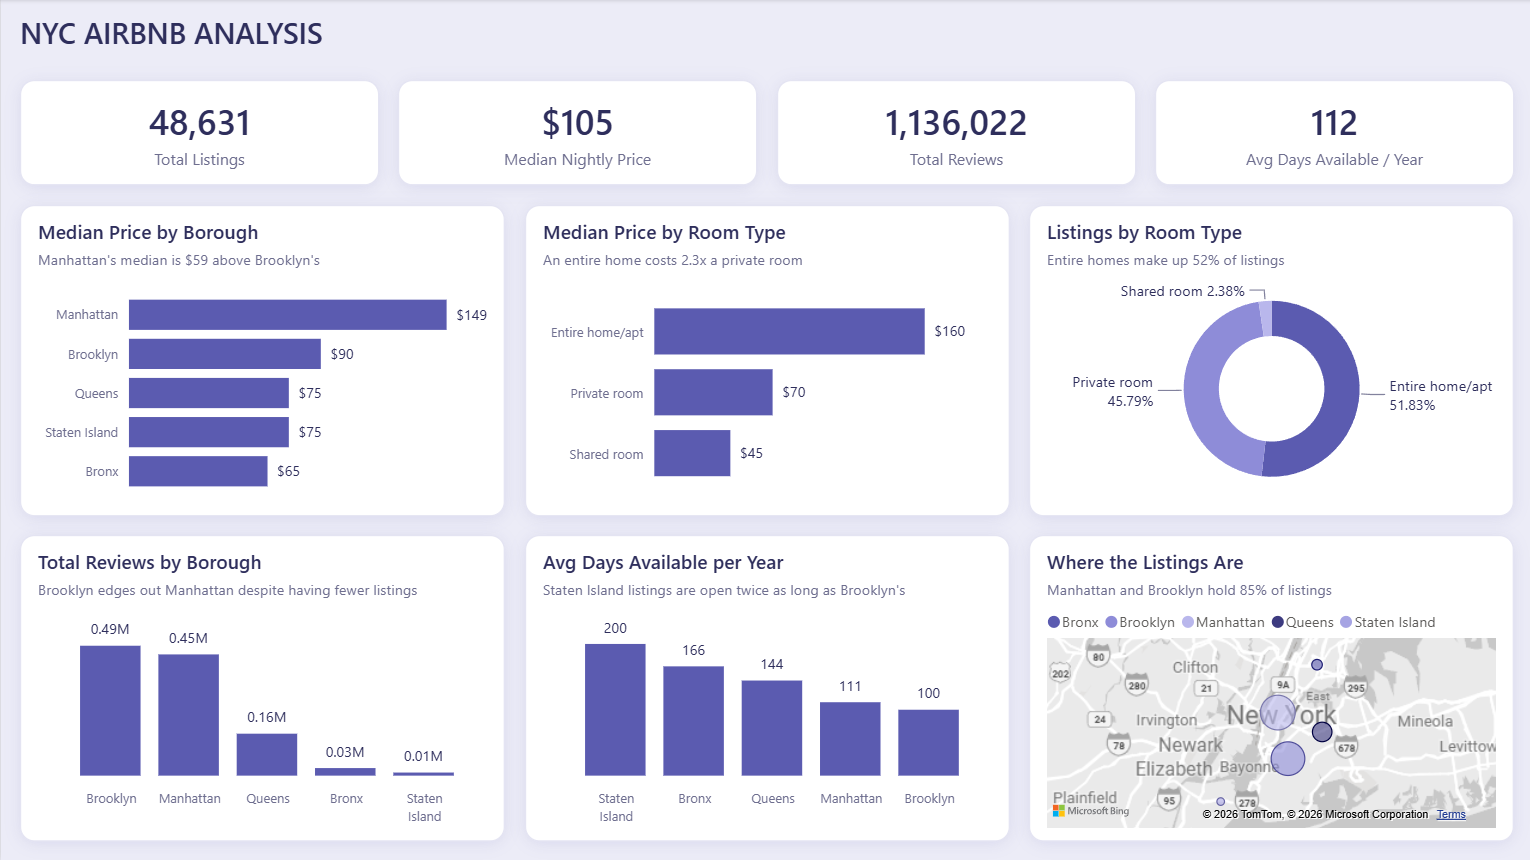

Layout of this report page (visuals, bound fields, positions):
{"tool":"powerbi","page":{"name":"Page 1","canvas":[1280,720],"ordinal":0},"visuals":[{"type":"textbox","box":[463.4,0,334.6,46.2],"z":0},{"type":"donutChart","fields":{"Category":["listings.room_type"],"Y":["CountNonNull(listings.id)"]},"box":[0,253,425.3,401.7],"z":1000},{"type":"textbox","box":[238.5,279.3,186.8,80.7],"z":2000},{"type":"clusteredBarChart","fields":{"Y":["Count(listings.price)"],"Category":["listings.neighbourhood_group"]},"box":[425.3,46.2,567.7,319.2],"z":3000},{"type":"card","fields":{"Values":["CountNonNull(listings.id)"]},"box":[0,46.2,425.3,206.8],"z":4000},{"type":"columnChart","fields":{"Category":["listings.neighbourhood_group"],"Y":["CountNonNull(listings.number_of_reviews)"]},"box":[425.3,365.4,498.7,354.6],"z":5000},{"type":"keyDriversVisual","fields":{"Target":["listings.price"],"ExplainBy":["listings.number_of_reviews","listings.neighbourhood_group"]},"box":[924,46.2,346.4,383.6],"z":5001},{"type":"lineChart","fields":{"Category":["listings.neighbourhood_group"],"Y":["Count(listings.availability_365)"]},"box":[924,429.8,346.4,290.2],"z":5002}]}

Visuals, with their boxes in screenshot pixels (x1, y1, x2, y2), scaled from the page's 1280x720 canvas onto the 1530x860 screenshot:
textbox: 554 0 954 55
donutChart - listings.room_type x CountNonNull(listings.id): 0 302 508 782
textbox: 285 334 508 430
clusteredBarChart - Count(listings.price) x listings.neighbourhood_group: 508 55 1187 436
card - CountNonNull(listings.id): 0 55 508 302
columnChart - listings.neighbourhood_group x CountNonNull(listings.number_of_reviews): 508 436 1104 859
keyDriversVisual - listings.price x listings.number_of_reviews: 1104 55 1519 513
lineChart - listings.neighbourhood_group x Count(listings.availability_365): 1104 513 1519 859
